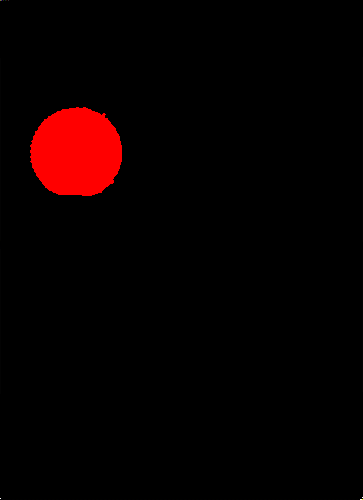stamp: (30, 109, 121, 198)
